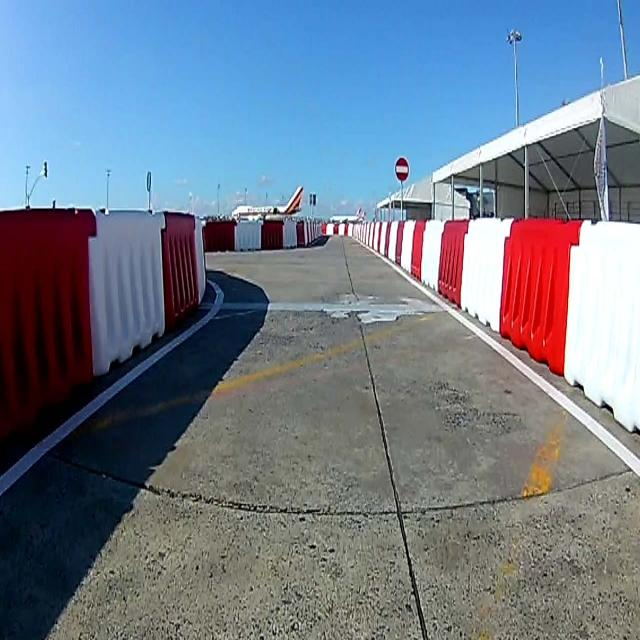girisyok: (395, 156, 409, 182)
